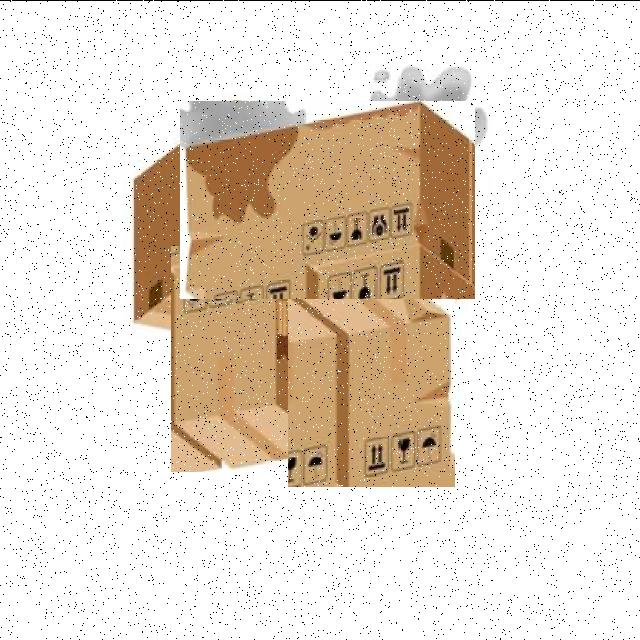defect: (180, 100, 475, 298), (171, 244, 340, 470), (288, 269, 455, 486)
